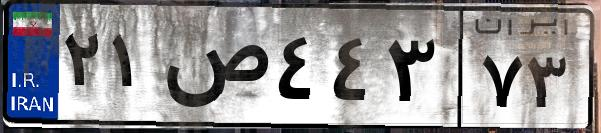1: (110, 28, 158, 98)
2: (57, 26, 110, 100)
3: (385, 28, 445, 110), (525, 38, 570, 115)
4: (270, 28, 330, 110), (330, 28, 385, 110)
7: (475, 38, 525, 113)
ص: (158, 20, 270, 120)
